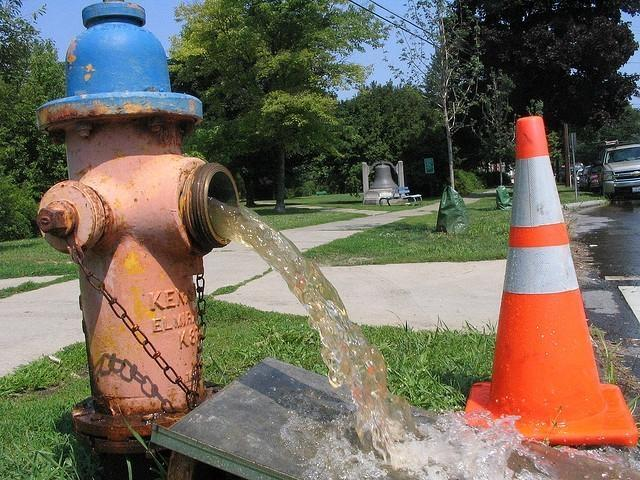car: (590, 162, 603, 196), (580, 166, 592, 192), (570, 166, 582, 188), (576, 168, 584, 188)
truck: (598, 142, 640, 201)
